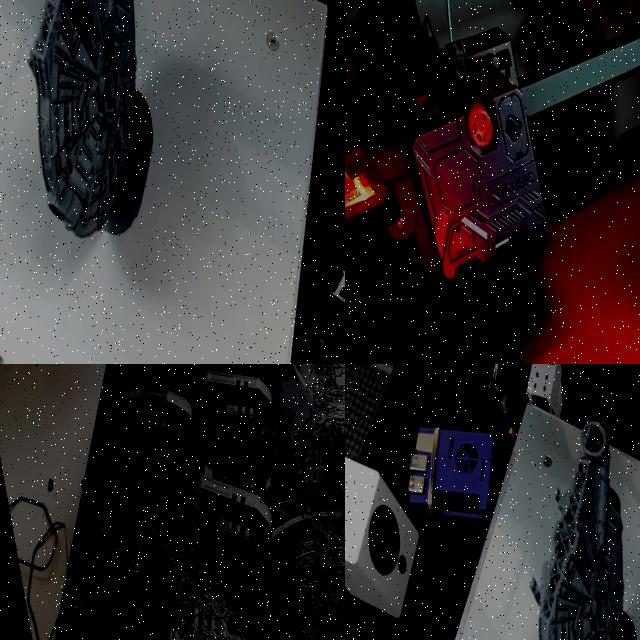spaghetti: (145, 514, 256, 640), (63, 478, 162, 580), (290, 373, 345, 510), (291, 511, 345, 640)
